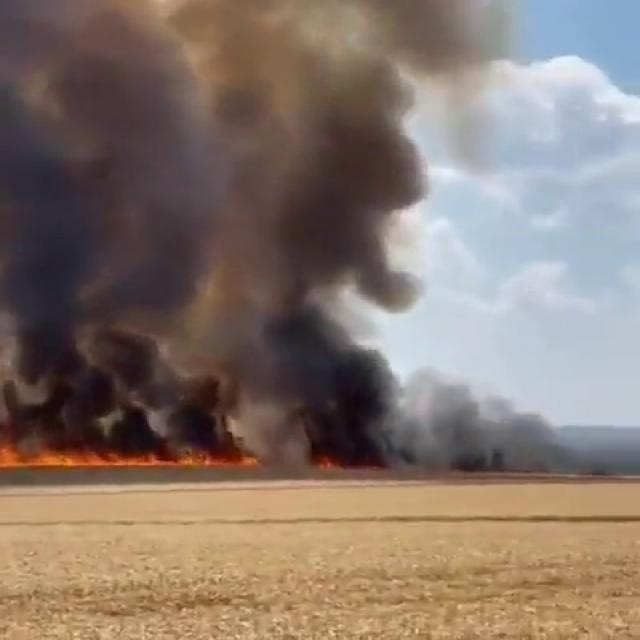Fire: (8, 451, 216, 471)
Smoke: (27, 0, 429, 465), (429, 390, 640, 475)
